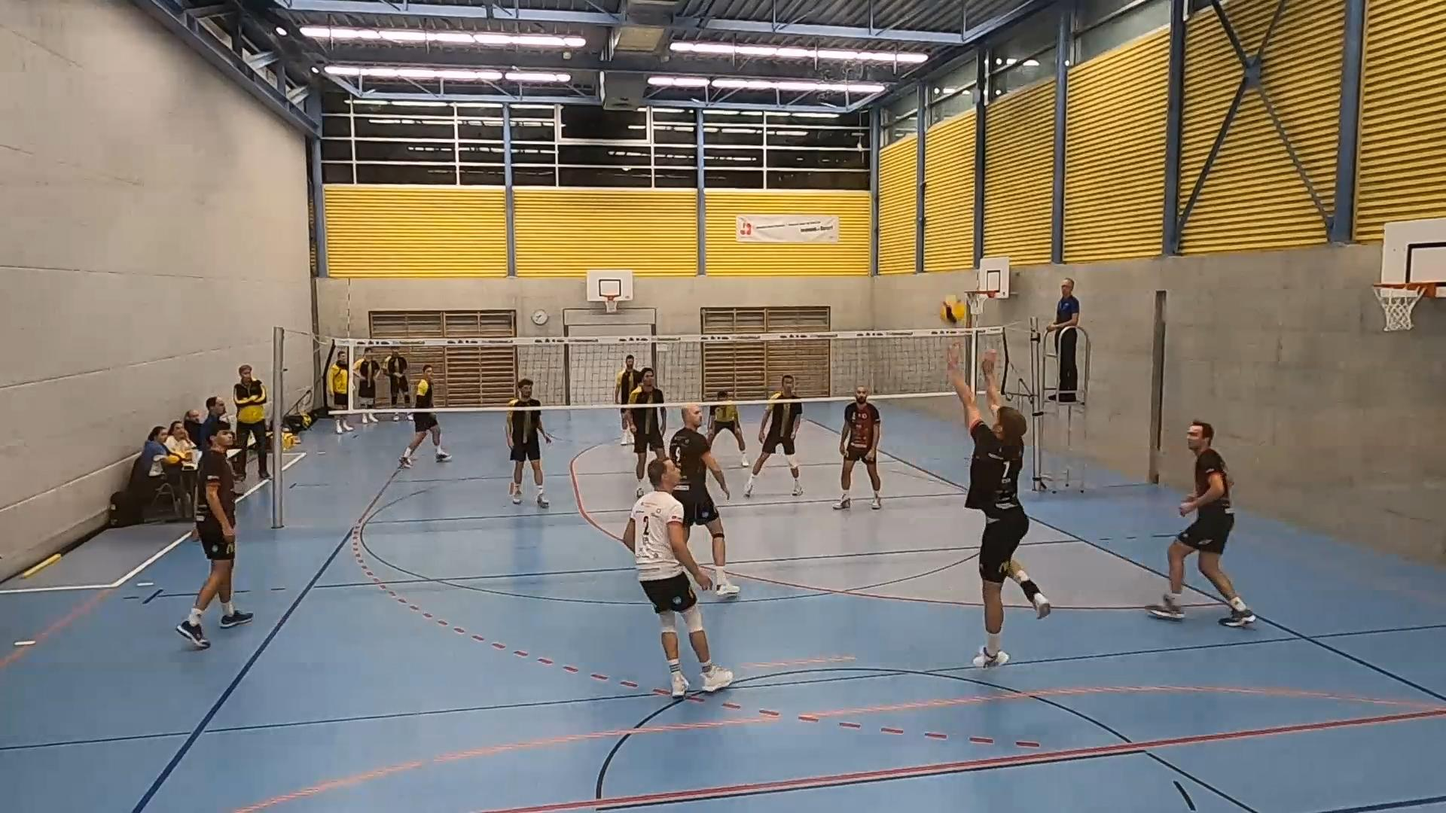difesa: (954, 347, 1030, 675)
